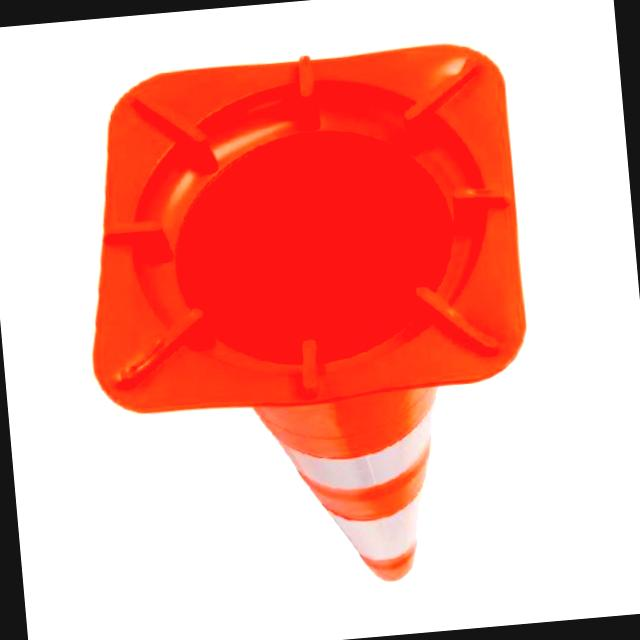cone: (52, 32, 548, 620)
